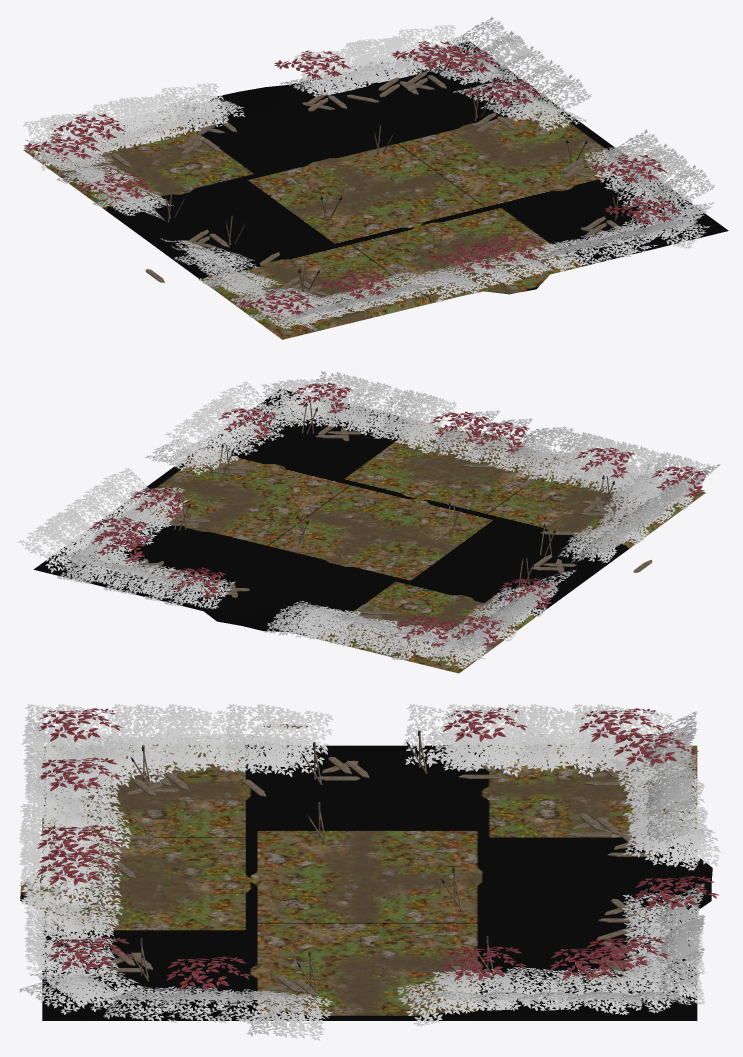
Rendered from 3 Puertas.fbx.
3 renders of one model, top to bottom at view 1: azimuth 30°, elevation 25°; view 2: azimuth 150°, elevation 25°; view 3: azimuth 270°, elevation 25°, orthographic. The views are drawn at different scales.
Visible parts, largest first — view 1: pCube352; view 2: pCube352; view 3: pCube352.
Boxes of the visible parts, left/top/right/bottom form: pCube352: left=23, top=16, right=728, bottom=339; pCube352: left=18, top=371, right=720, bottom=673; pCube352: left=19, top=704, right=720, bottom=1040.
Bounding box in the file's own units: 540 × 41.31 × 514.
